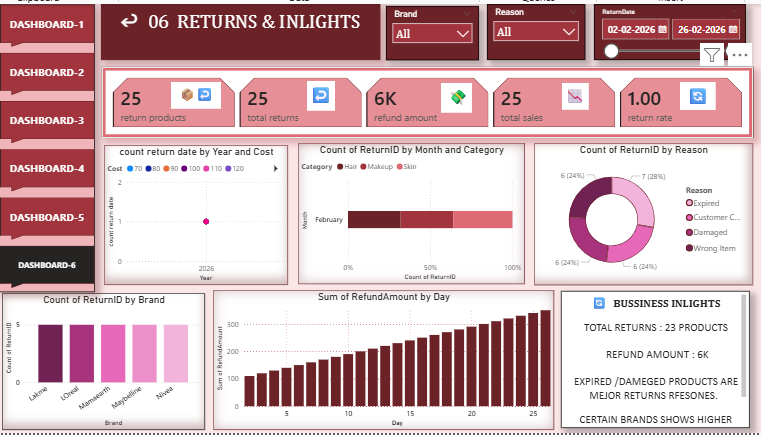

What the dashboard file says about the page in this screenshot:
{"tool":"powerbi","page":{"name":"DASHBOARD-6","canvas":[1280,720],"ordinal":5},"visuals":[{"type":"textbox","box":[171.3,0,468.7,94.1],"z":0},{"type":"donutChart","fields":{"Category":["Returns.Reason"],"Y":["CountNonNull(Returns.ReturnID)"]},"box":[898.7,233.5,367.9,238.5],"z":1000},{"type":"lineChart","fields":{"Category":["Returns.ReturnDate.Variation.Date Hierarchy.Year","Returns.ReturnDate.Variation.Date Hierarchy.Month","Returns.ReturnDate.Variation.Date Hierarchy.Day"],"Y":["Customers.count return date"],"Series":["Products.Cost"]},"box":[176.4,236.9,309.1,235.2],"z":2000},{"type":"hundredPercentStackedBarChart","fields":{"Category":["Returns.ReturnDate.Variation.Date Hierarchy.Month","Returns.ReturnDate.Variation.Date Hierarchy.Day"],"Y":["CountNonNull(Returns.ReturnID)"],"Series":["Products.Category"]},"box":[502.3,233.5,381.3,236.9],"z":3000},{"type":"clusteredColumnChart","fields":{"Category":["Products.Brand"],"Y":["CountNonNull(Returns.ReturnID)"]},"box":[5,485.5,341,230.1],"z":4000},{"type":"slicer","fields":{"Values":["Returns.ReturnDate"]},"box":[999.5,0,255.3,94.1],"z":5000},{"type":"slicer","fields":{"Values":["Returns.Reason"]},"box":[819.7,0,164.6,94.1],"z":6000},{"type":"slicer","fields":{"Values":["Products.Brand"]},"box":[650.1,3.4,156.2,90.7],"z":7000},{"type":"pageNavigator","box":[0,0,161.3,483.8],"z":8000},{"type":"cardVisual","fields":{"Data":["Customers.return products","Customers.total returns","Customers.refund amount","Customers.total sales","Customers.return rate"]},"box":[173,105.8,1093.5,119.3],"z":9000},{"type":"lineStackedColumnComboChart","fields":{"Y":["Sum(Returns.RefundAmount)"],"Category":["Returns.ReturnDate.Variation.Date Hierarchy.Day","Returns.ReturnDate.Variation.Date Hierarchy.Month","Returns.ReturnDate.Variation.Date Hierarchy.Year"]},"box":[359.5,480.4,572.8,235.2],"z":10000},{"type":"textbox","box":[944,482.1,317.5,230.1],"z":11000},{"type":"textbox","box":[517.4,129.3,47,50.4],"z":12000},{"type":"textbox","box":[288.9,131,84,45.4],"z":13000},{"type":"textbox","box":[742.5,132.7,52.1,50.4],"z":14000},{"type":"textbox","box":[945.7,132.7,45.4,45.4],"z":15000},{"type":"textbox","box":[1143.9,131,60.5,47],"z":16000}]}

Visuals, with their boxes on the page's 1280x720 design canvas (x1, y1, x2, y2). These are canvas units, not pixel positions in the 761x442 screenshot, which may show the page scaled, cropped or inside an application window:
textbox: x1=171 y1=0 x2=640 y2=94
donutChart - Returns.Reason x CountNonNull(Returns.ReturnID): x1=899 y1=234 x2=1267 y2=472
lineChart - Returns.ReturnDate.Variation.Date Hierarchy.Year x Returns.ReturnDate.Variation.Date Hierarchy.Month: x1=176 y1=237 x2=486 y2=472
hundredPercentStackedBarChart - Returns.ReturnDate.Variation.Date Hierarchy.Month x Returns.ReturnDate.Variation.Date Hierarchy.Day: x1=502 y1=234 x2=884 y2=470
clusteredColumnChart - Products.Brand x CountNonNull(Returns.ReturnID): x1=5 y1=486 x2=346 y2=716
slicer - Returns.ReturnDate: x1=1000 y1=0 x2=1255 y2=94
slicer - Returns.Reason: x1=820 y1=0 x2=984 y2=94
slicer - Products.Brand: x1=650 y1=3 x2=806 y2=94
pageNavigator: x1=0 y1=0 x2=161 y2=484
cardVisual - Customers.return products x Customers.total returns: x1=173 y1=106 x2=1266 y2=225
lineStackedColumnComboChart - Sum(Returns.RefundAmount) x Returns.ReturnDate.Variation.Date Hierarchy.Day: x1=360 y1=480 x2=932 y2=716
textbox: x1=944 y1=482 x2=1262 y2=712
textbox: x1=517 y1=129 x2=564 y2=180
textbox: x1=289 y1=131 x2=373 y2=176
textbox: x1=742 y1=133 x2=795 y2=183
textbox: x1=946 y1=133 x2=991 y2=178
textbox: x1=1144 y1=131 x2=1204 y2=178
